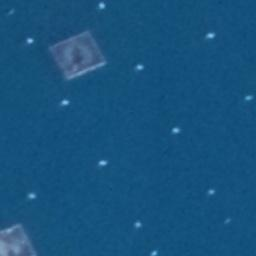square_cover: (42, 26, 114, 81), (1, 215, 44, 255)
